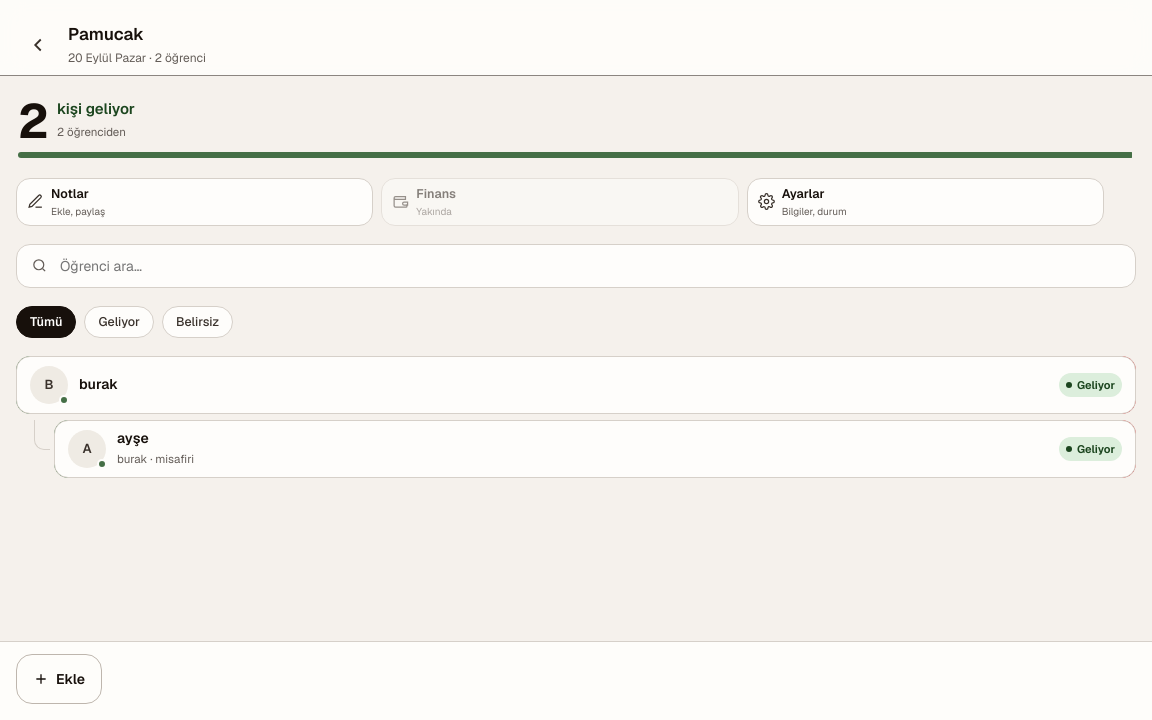
Test case: Etkinlik katılımcı listesinde misafir sıralaması › "Geliyor"/"Belirsiz" filtresinde misafirleri normal öğrenci gibi düz sırada gösterir
Click the button "Geliyor": (119, 322) left=84, top=306, right=154, bottom=338
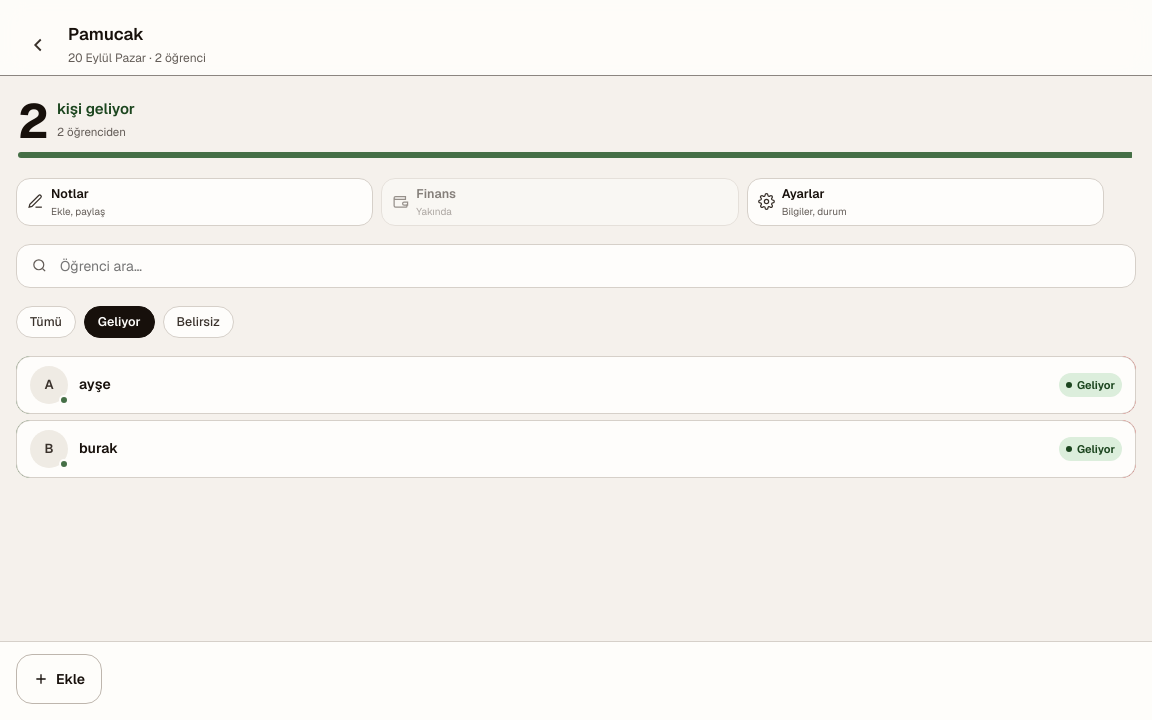
Now the text "misafiri" is gone
